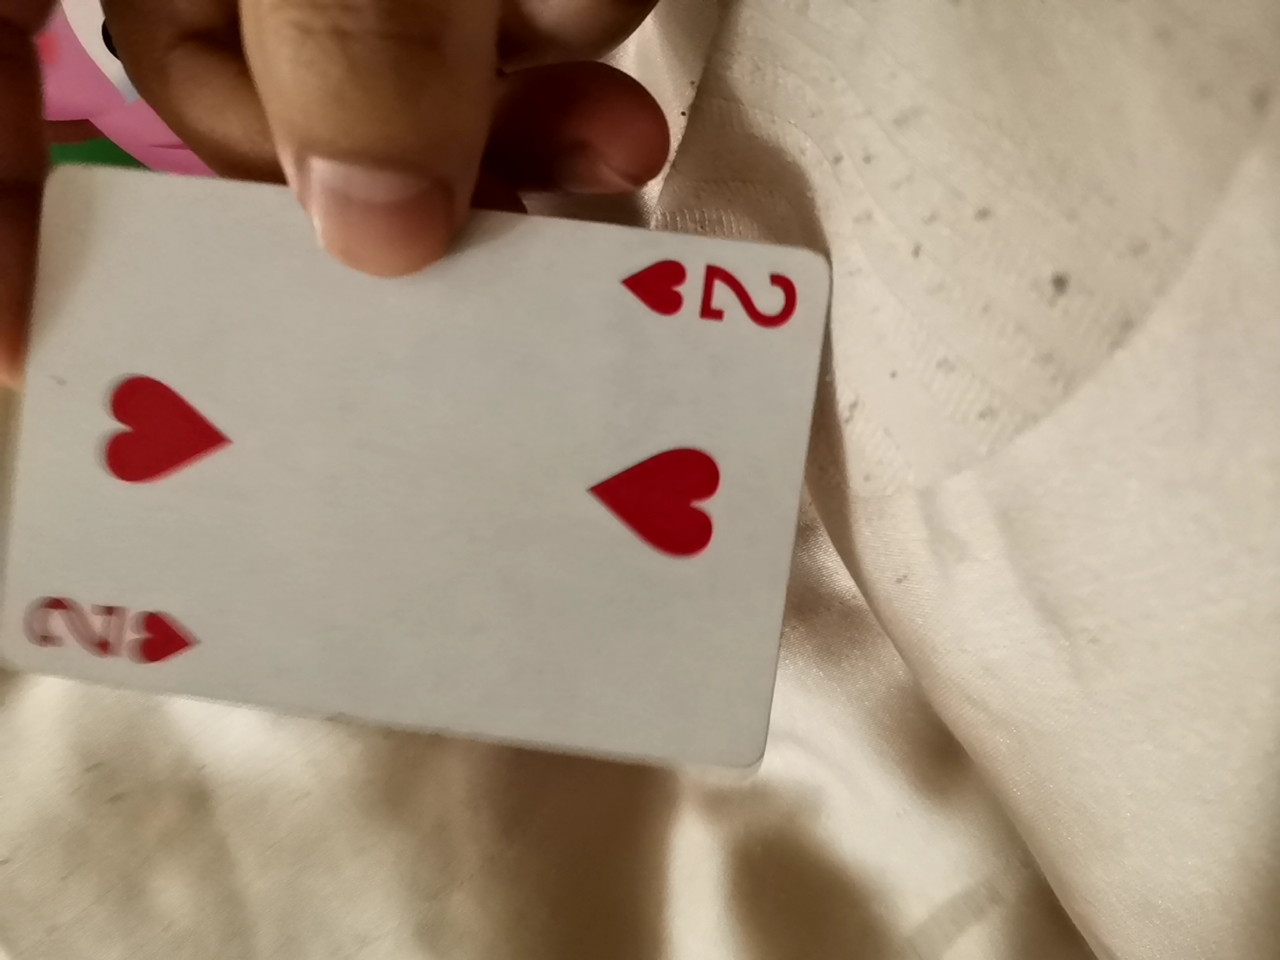hx 2: (24, 171, 854, 779)
